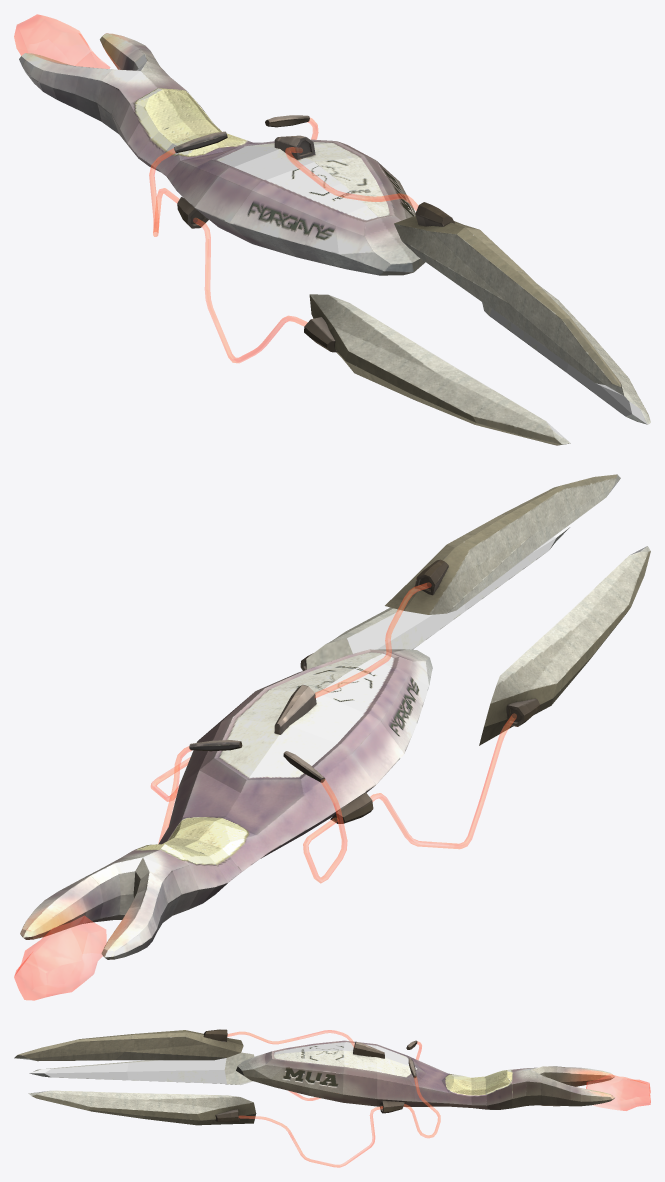
The model's file is Cycle.glb.
The picture shows the model from 3 angles, top to bottom: view 1: azimuth 30°, elevation 25°; view 2: azimuth 150°, elevation 25°; view 3: azimuth 270°, elevation 25°; orthographic projection. The views are drawn at different scales.
Visible parts, largest first — view 1: Cube.013; view 2: Cube.013; view 3: Cube.013.
Boxes of the visible parts, x1,y1,x2,y2 form: Cube.013: [14, 14, 650, 445]; Cube.013: [14, 474, 650, 1000]; Cube.013: [14, 1029, 650, 1167].
Size of what is drawn, in the model's own units: 3.44 by 2.18 by 12.36.
Materials: 2 (2 with a texture image).
